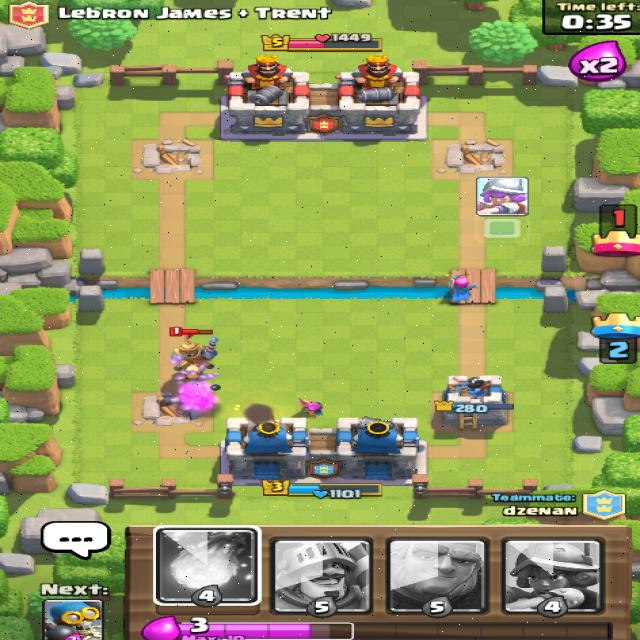Enemy-Prince: (166, 326, 220, 379)
Player-Archer: (443, 272, 479, 302), (294, 395, 324, 418)
